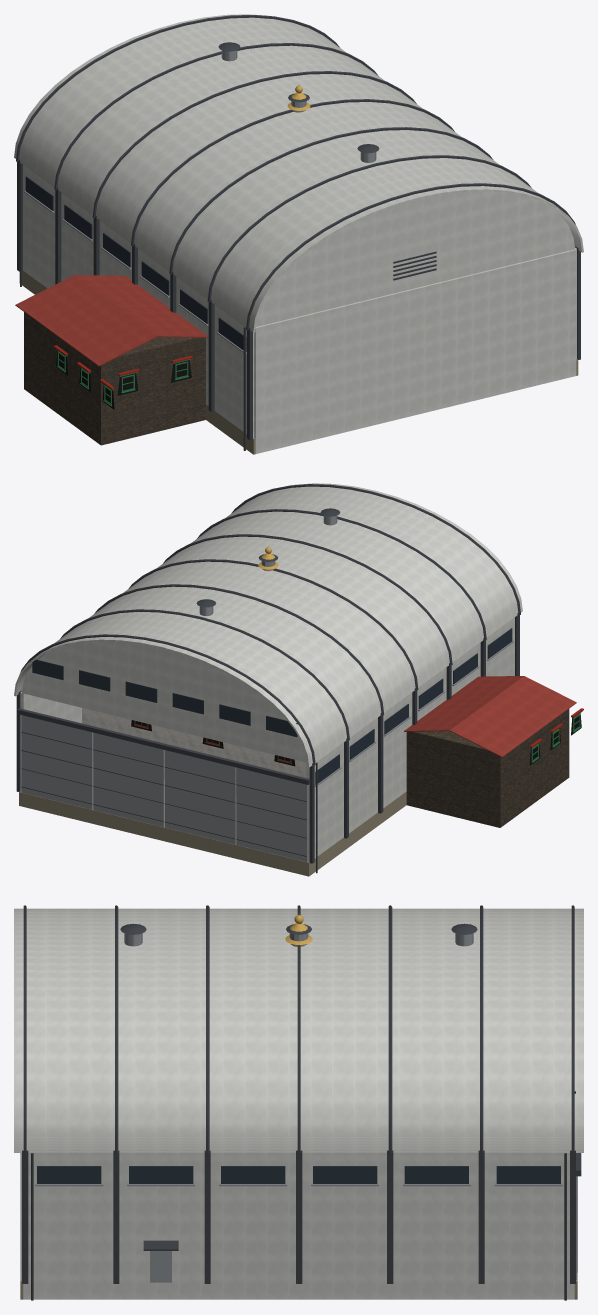
The model's file is props_himalaya.glb.
3 renders of one model, top to bottom at view 1: azimuth 30°, elevation 25°; view 2: azimuth 150°, elevation 25°; view 3: azimuth 270°, elevation 25°, orthographic. The views are drawn at different scales.
Visible parts, largest first — view 1: hangar_a__b_corr_white, hangar_a__f_vc, monastery__b_stonewall, monastery__b_corr_red, monastery__f_vc, hangar_a__b_concrete; view 2: hangar_a__b_corr_white, hangar_a__f_vc, monastery__b_stonewall, monastery__b_corr_red, hangar_a__b_concrete, monastery__b_plaster, monastery__f_vc; view 3: hangar_a__b_corr_white, hangar_a__f_vc.
Boxes of the visible parts, box(x1,y1,x2,y2) form: hangar_a__b_corr_white: box(14, 14, 583, 453); hangar_a__f_vc: box(16, 15, 580, 450); monastery__b_stonewall: box(24, 312, 205, 445); monastery__b_corr_red: box(15, 275, 208, 366); monastery__f_vc: box(53, 86, 306, 409); hangar_a__b_concrete: box(19, 271, 578, 454); hangar_a__b_corr_white: box(14, 483, 522, 861); hangar_a__f_vc: box(16, 484, 520, 873); monastery__b_stonewall: box(406, 709, 569, 827); monastery__b_corr_red: box(404, 676, 576, 757); hangar_a__b_concrete: box(19, 762, 406, 876); monastery__b_plaster: box(82, 708, 306, 796); monastery__f_vc: box(131, 547, 583, 766); hangar_a__b_corr_white: box(14, 908, 583, 1299); hangar_a__f_vc: box(22, 905, 581, 1300).
Bounding box in the file's own units: 33.65 × 17.6 × 31.
Materials: 10 (9 with a texture image).
